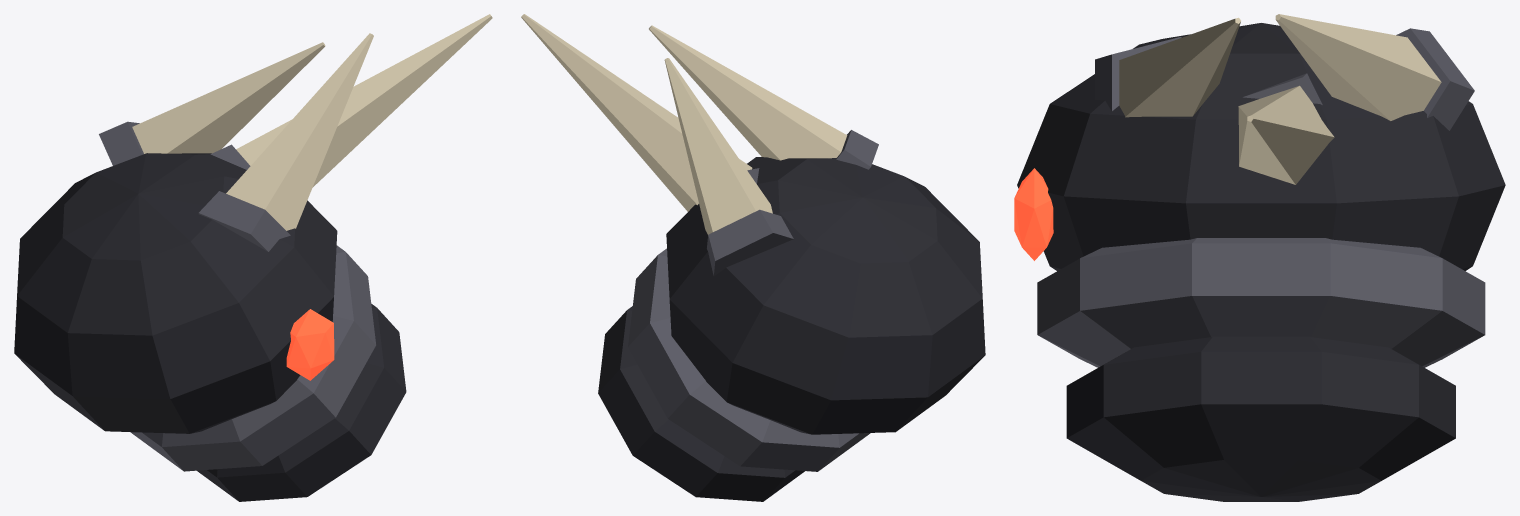
File: Boss_Knight_Pauldron_L.fbx
3 renders of one model, left to right at view 1: azimuth 30°, elevation 25°; view 2: azimuth 150°, elevation 25°; view 3: azimuth 270°, elevation 25°, orthographic. The views are drawn at different scales.
Parts seen in each view (by area): view 1: Boss_Knight_Pauldron_L; view 2: Boss_Knight_Pauldron_L; view 3: Boss_Knight_Pauldron_L.
Part boxes in pixels (x1,y1,x2,y2): Boss_Knight_Pauldron_L: (14, 14, 492, 501); Boss_Knight_Pauldron_L: (521, 14, 985, 501); Boss_Knight_Pauldron_L: (1014, 14, 1505, 501).
Bounding box in the file's own units: 0.5715 × 0.5181 × 0.4224.
